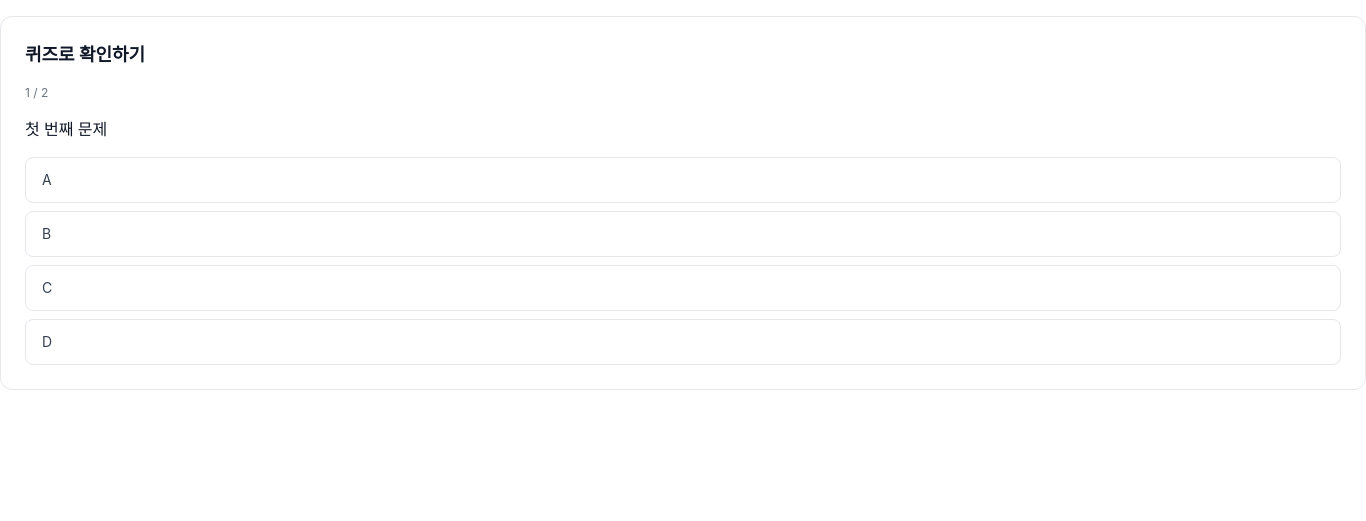
Test: QuizSection › 문제를 풀고 다음 문제로 이동한다
Note: 첫 번째 문제 답변
Step 1. Click the button "A" → (47,180), box [25, 157, 1341, 203]
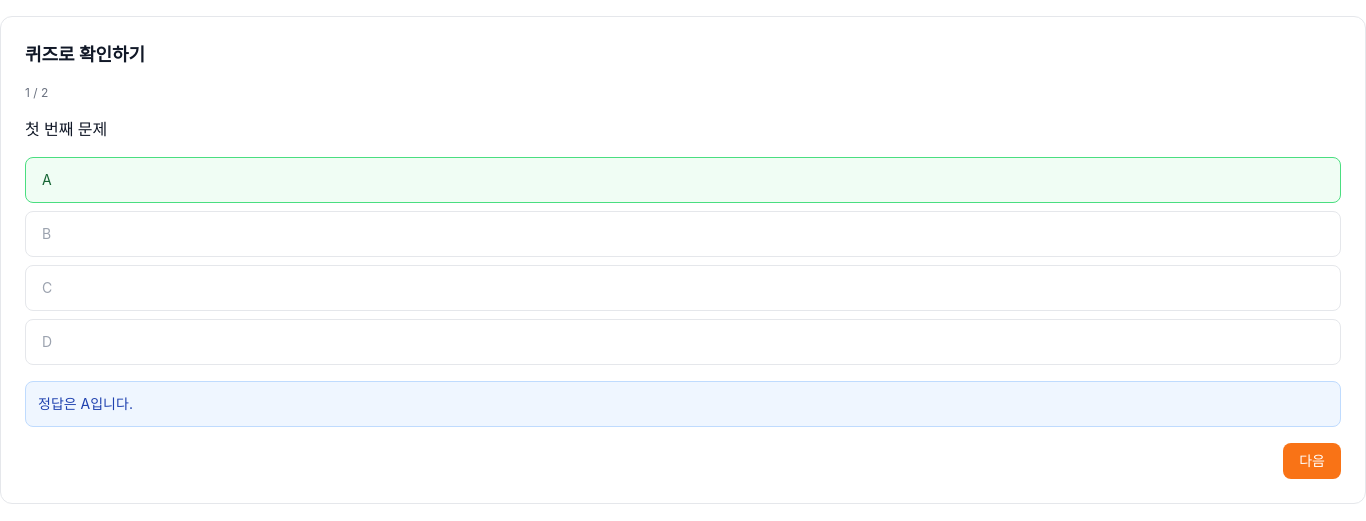
Note: 다음 버튼 클릭
Step 2. Click the button "다음" → (1312,461), box [1283, 443, 1341, 479]
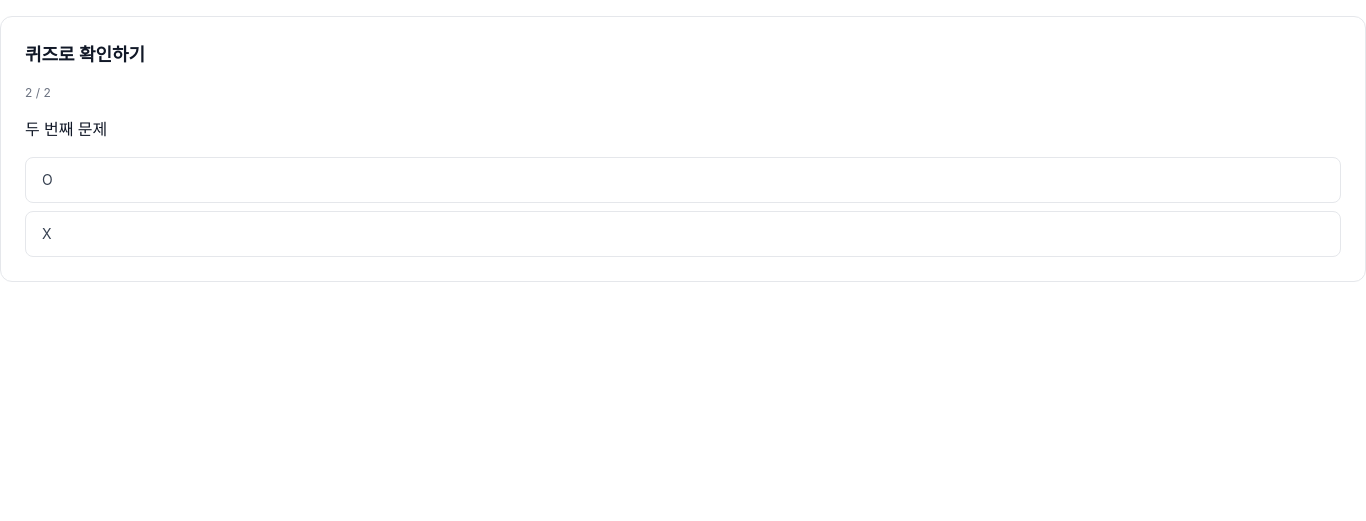
Now the text "두 번째 문제" is shown, box [25, 119, 107, 139]
